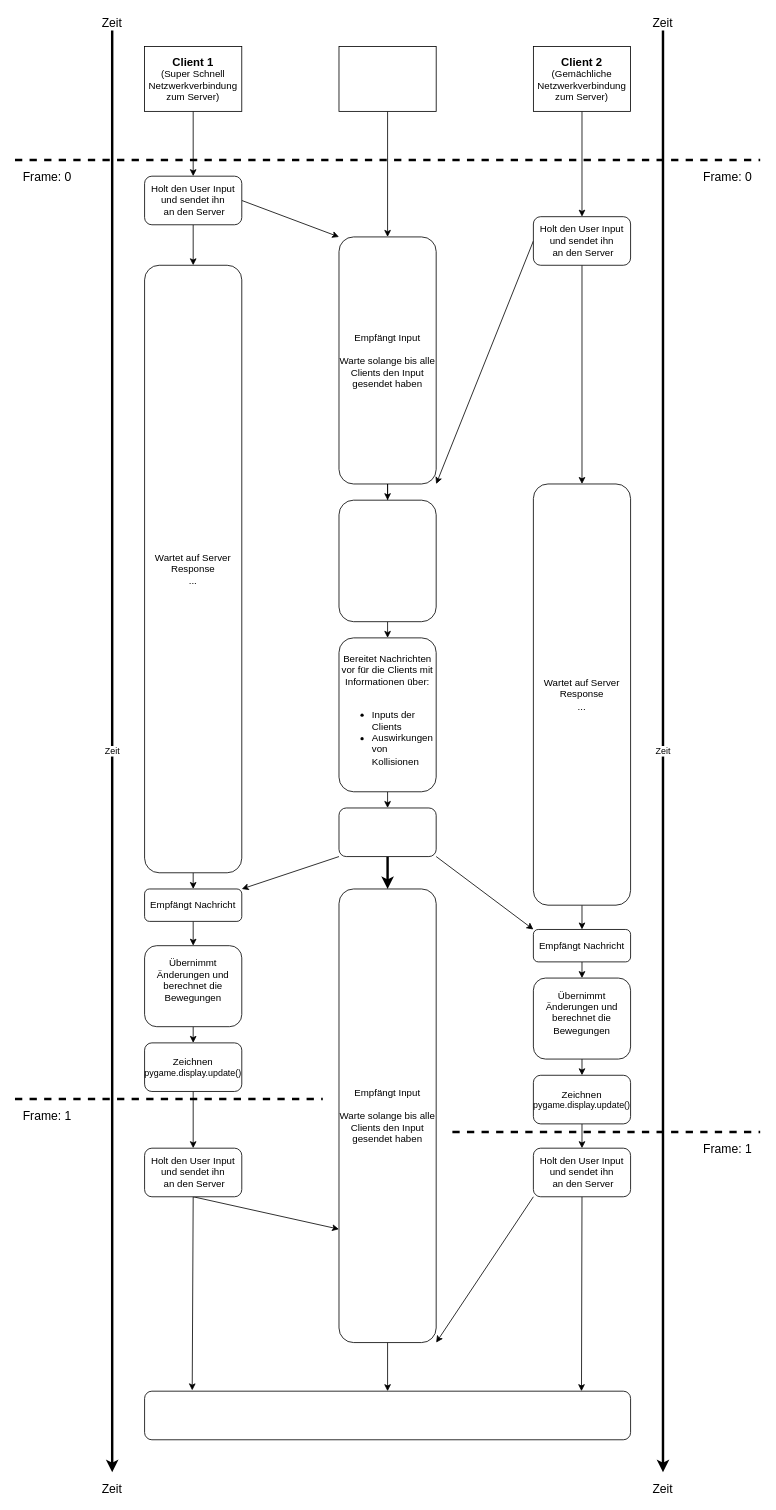
Image size: 776x1510. Some labels were removed from this diagram. The shapes that lost their labels are listed below. From the top down, each one's centre as x and y in pixels, then its label:
(x=387, y=78): Slither Server
(x=387, y=560): Berechnung der Bewegungen, Zufall, Kollisionen und deren Auswirkungen.
(x=387, y=832): Sendet Nachrichten
(x=387, y=1415): Alles noch mal ...
